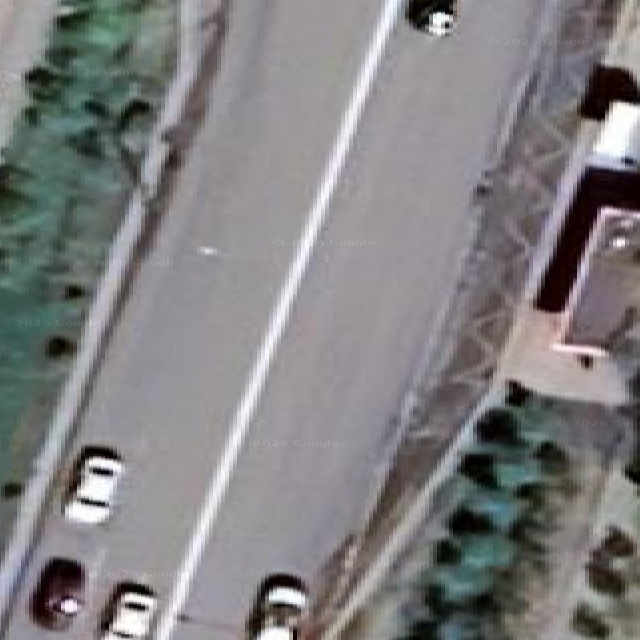car: (63, 447, 123, 524), (29, 558, 84, 630), (247, 574, 307, 639), (100, 583, 156, 639), (405, 0, 457, 36)
